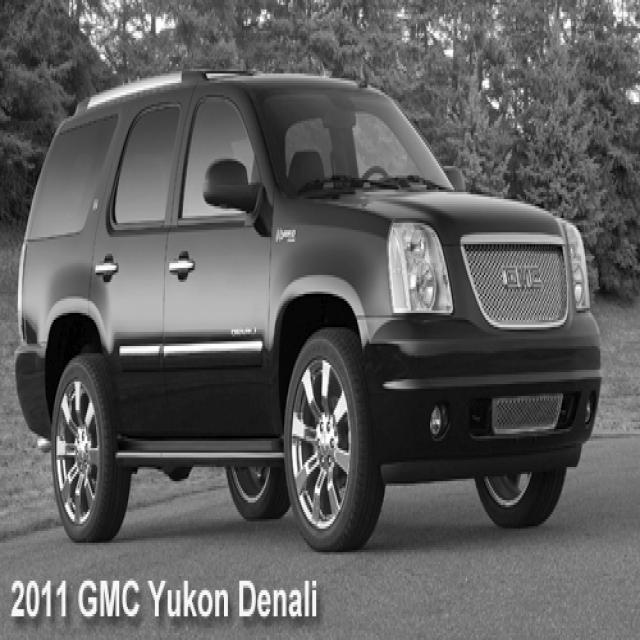car: (14, 66, 602, 550)
